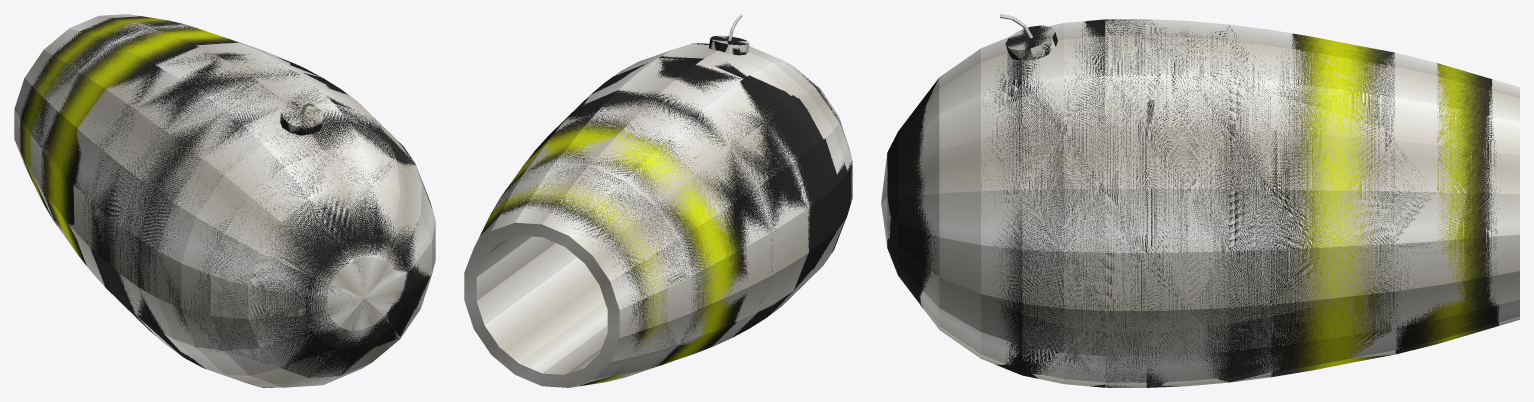
Rendered from cannon.fbx.
3 views of the same model, side by side, from view 1: azimuth 30°, elevation 25°; view 2: azimuth 150°, elevation 25°; view 3: azimuth 270°, elevation 25° (orthographic). The views are drawn at different scales.
Parts seen in each view (by area): view 1: Col, Outside, FuseBaseTop; view 2: Col, Outside; view 3: Col, Outside, FuseBaseTop.
Boxes of the visible parts, left/top/right/bottom form: Col: left=14, top=14, right=435, bottom=387; Outside: left=19, top=16, right=432, bottom=387; FuseBaseTop: left=282, top=102, right=321, bottom=127; Col: left=464, top=35, right=852, bottom=387; Outside: left=480, top=43, right=852, bottom=386; Col: left=881, top=19, right=1519, bottom=387; Outside: left=887, top=19, right=1500, bottom=387; FuseBaseTop: left=1005, top=25, right=1050, bottom=49.
Size of the model in its own units: 0.8847 by 0.94 by 1.53.
3 materials, 3 textured.
